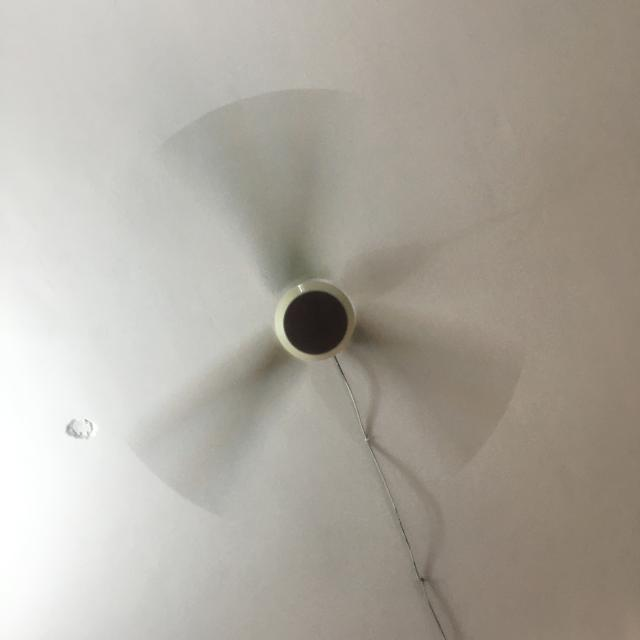on: (120, 78, 527, 527)
